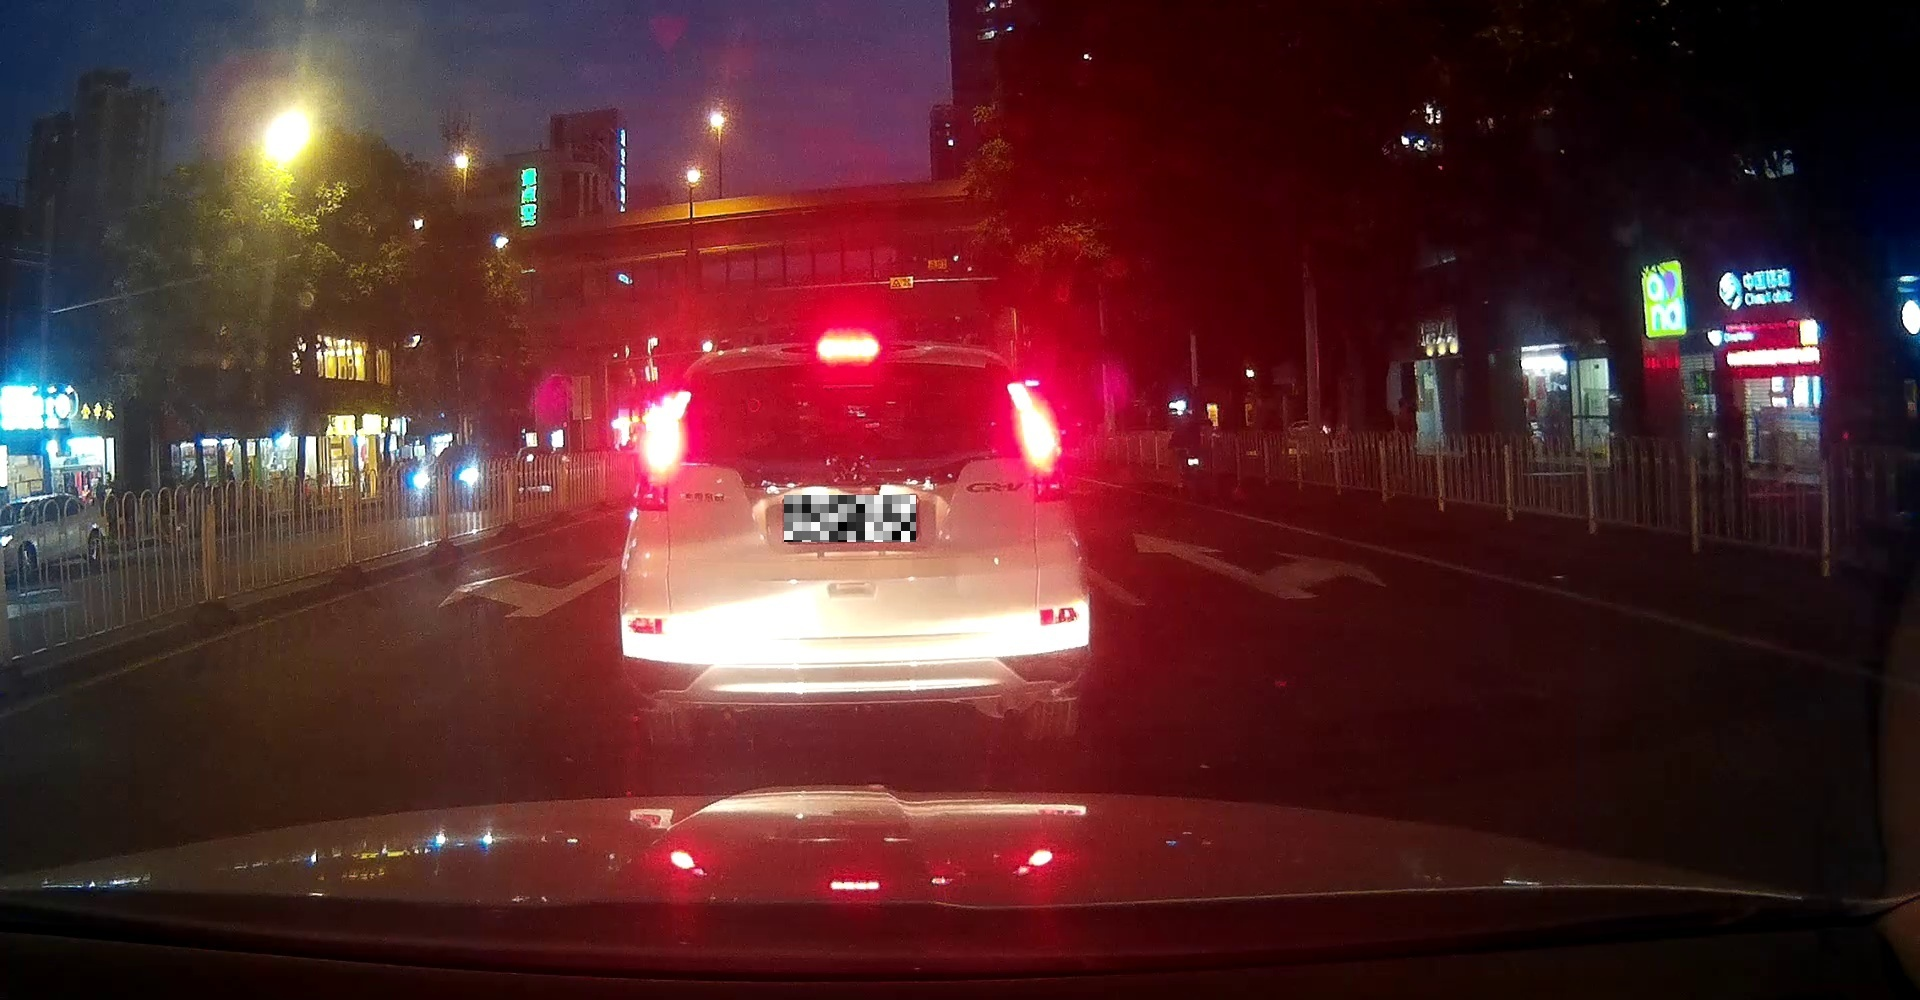L_light: (632, 472, 667, 511)
R_light: (1032, 470, 1068, 503)
T_light: (817, 340, 879, 364)
night-brake: (620, 339, 1090, 751)
plate_1: (783, 495, 916, 542)
